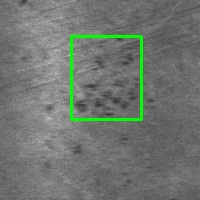rolled-in_scale: (71, 36, 141, 119)
